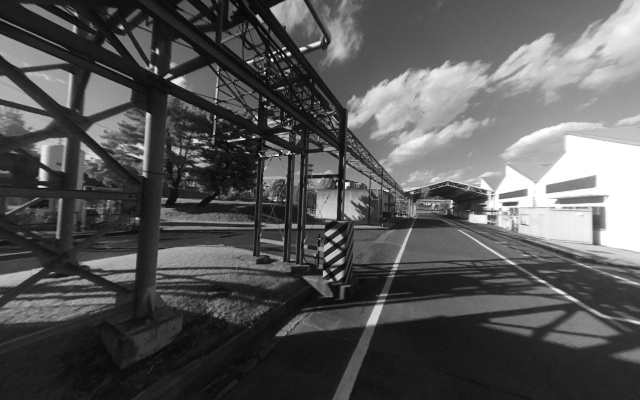bollard: (325, 218, 353, 283)
